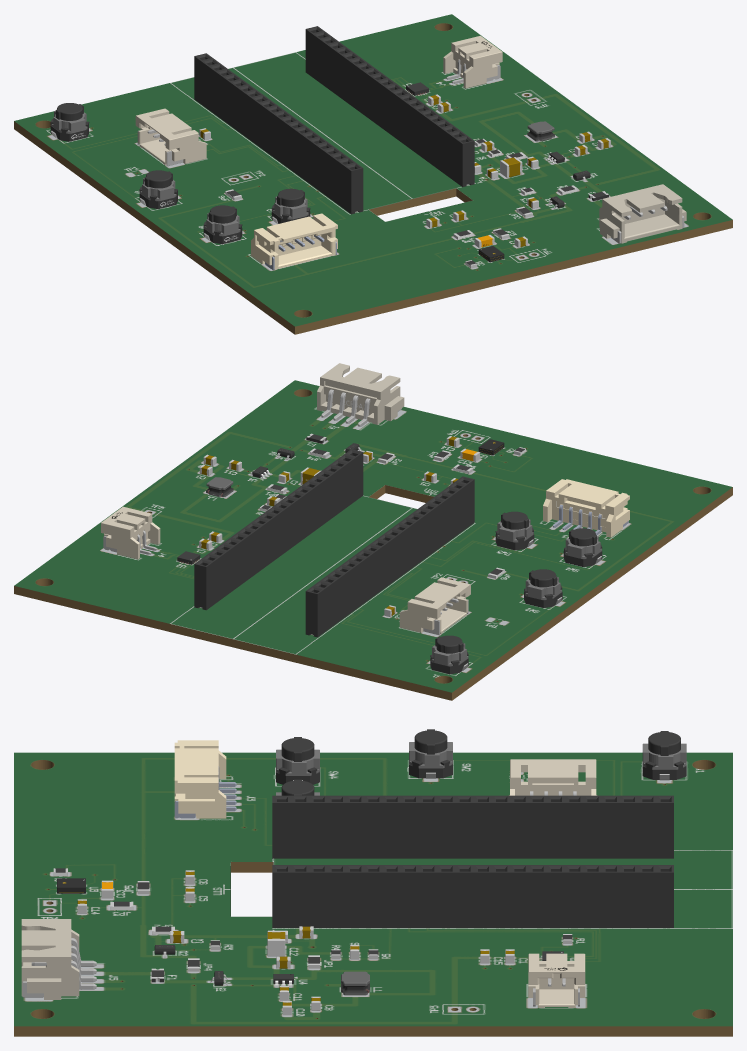
Rendered from smart-remote-v2.glb.
The picture shows the model from 3 angles, top to bottom: view 1: azimuth 30°, elevation 25°; view 2: azimuth 150°, elevation 25°; view 3: azimuth 270°, elevation 25°; orthographic projection. The views are drawn at different scales.
Parts seen in each view (by area): view 1: board, U1S_A, U1S_B, J5, J3, J2, J4, SW4, SW2, SW1, SW3; view 2: board, U1S_B, U1S_A, J5, J3, J2, J4, SW4, SW3, SW1, SW2; view 3: board, U1S_B, U1S_A, J5, J3, J2, J4, SW1, SW2, SW4, L1, SW3 (+1 smaller).
Part boxes in pixels (bbox=[...]): board: bbox=[14, 14, 732, 334]; U1S_A: bbox=[305, 26, 474, 187]; U1S_B: bbox=[194, 53, 363, 214]; J5: bbox=[599, 184, 686, 243]; J3: bbox=[251, 213, 337, 270]; J2: bbox=[135, 108, 206, 166]; J4: bbox=[443, 35, 502, 88]; SW4: bbox=[203, 205, 242, 244]; SW2: bbox=[139, 170, 177, 209]; SW1: bbox=[50, 103, 89, 141]; SW3: bbox=[271, 188, 310, 223]; board: bbox=[14, 380, 732, 700]; U1S_B: bbox=[305, 476, 474, 637]; U1S_A: bbox=[194, 449, 363, 610]; J5: bbox=[317, 363, 404, 426]; J3: bbox=[543, 479, 629, 537]; J2: bbox=[399, 577, 470, 635]; J4: bbox=[101, 506, 160, 559]; SW4: bbox=[563, 528, 602, 566]; SW3: bbox=[495, 511, 534, 550]; SW1: bbox=[430, 635, 468, 674]; SW2: bbox=[524, 569, 562, 607]; board: bbox=[14, 752, 732, 1036]; U1S_B: bbox=[272, 795, 673, 858]; U1S_A: bbox=[272, 865, 673, 927]; J5: bbox=[21, 919, 96, 999]; J3: bbox=[174, 740, 236, 818]; J2: bbox=[510, 759, 596, 795]; J4: bbox=[528, 953, 585, 1007]; SW1: bbox=[642, 731, 686, 780]; SW2: bbox=[409, 729, 452, 778]; SW4: bbox=[276, 737, 319, 784]; L1: bbox=[341, 971, 369, 995]; SW3: bbox=[276, 779, 319, 795].
Size of the model in its own units: 0.09 by 0.0117 by 0.1.
Materials: 23 (2 with a texture image).
